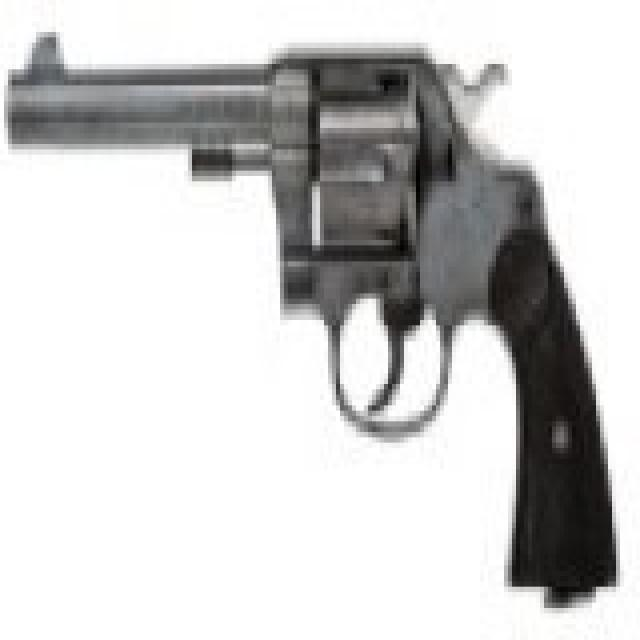Gun: (9, 21, 620, 588)
